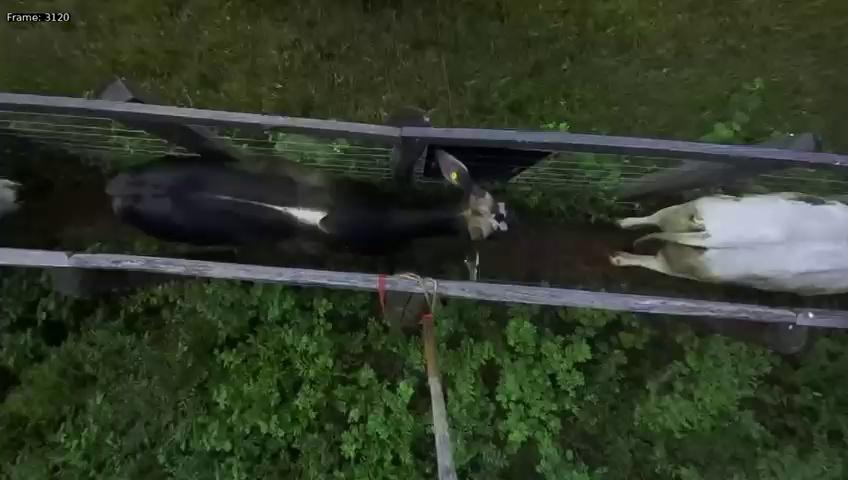cattle: (94, 144, 511, 289)
